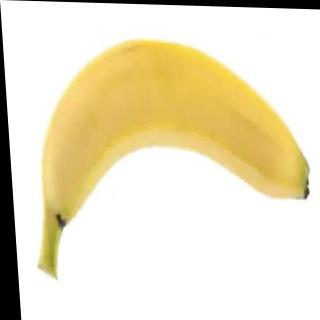banana: (22, 34, 314, 290)
